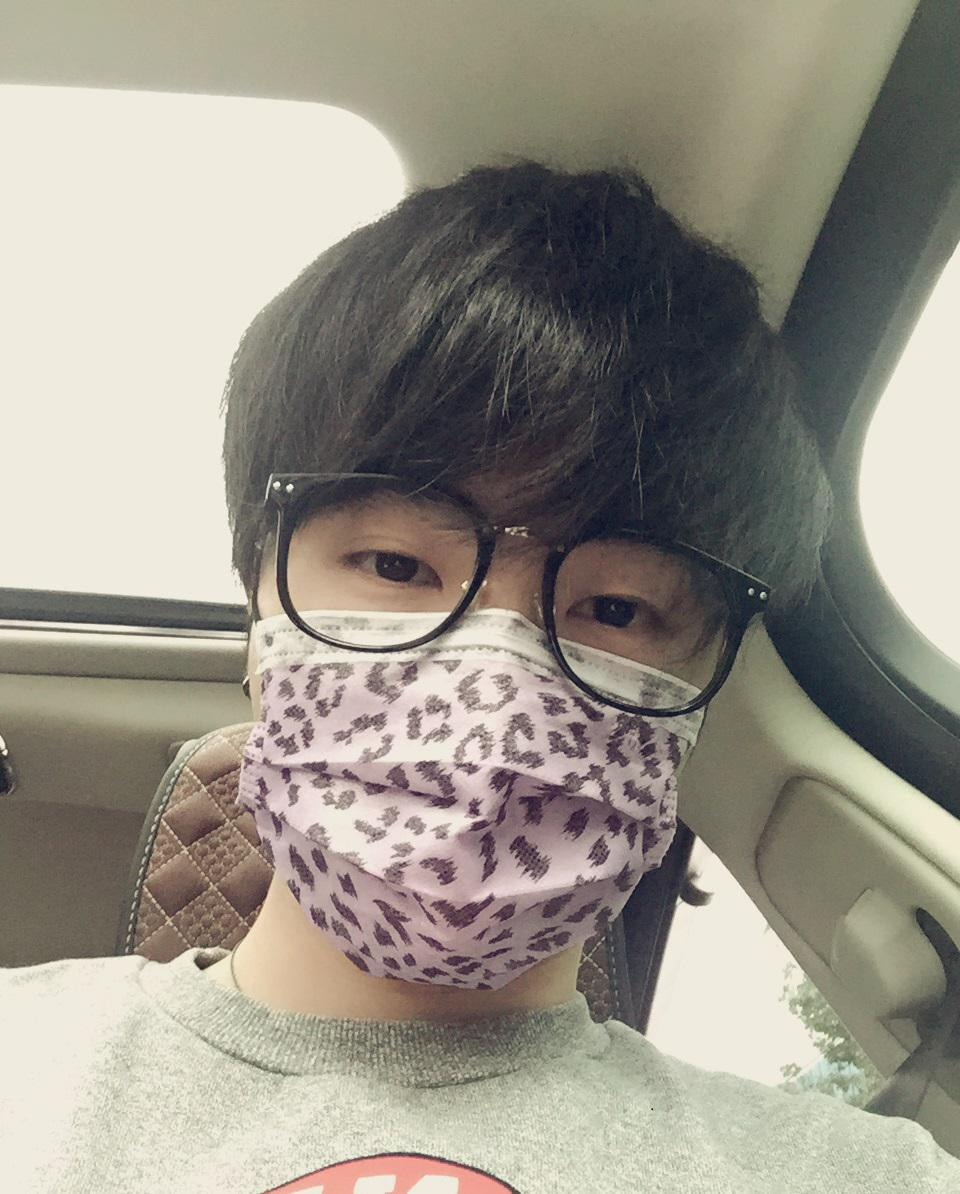OK: (248, 454, 745, 991)
